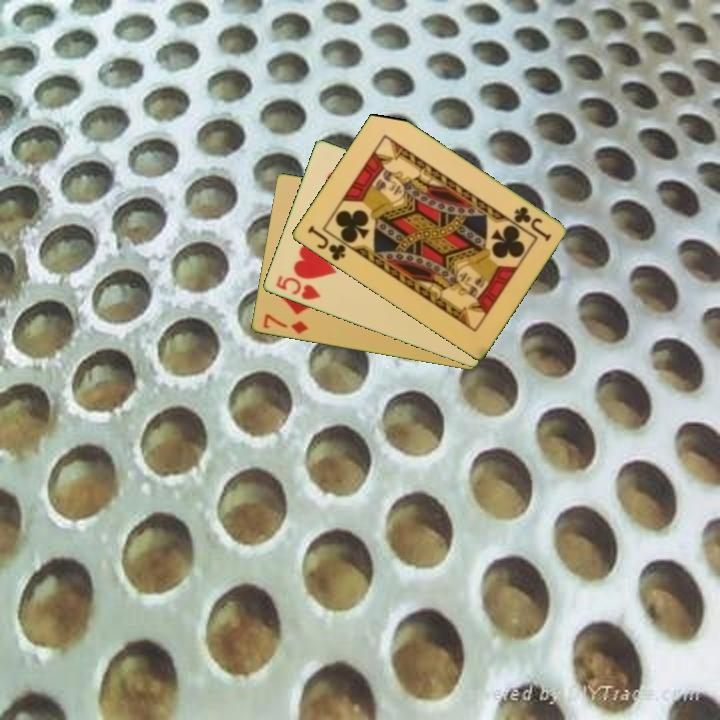5h: (272, 272, 323, 303)
7d: (259, 310, 311, 337)
Jc: (303, 222, 348, 264), (510, 203, 554, 244)
